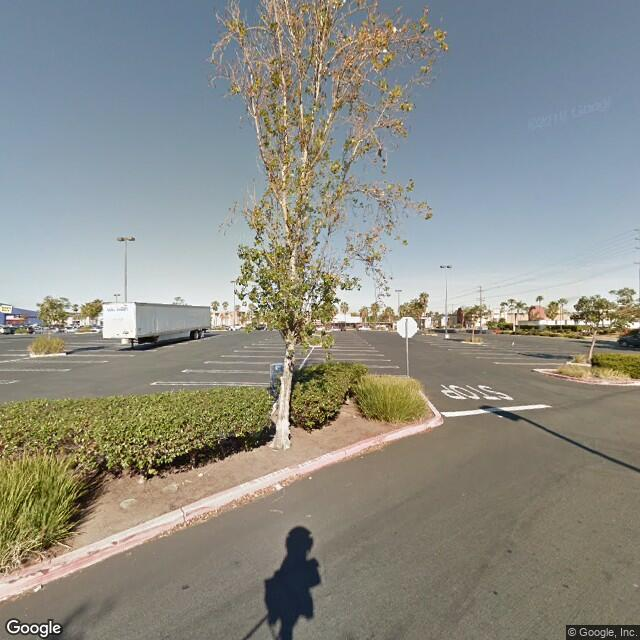litter: (270, 481, 285, 490), (31, 586, 46, 593), (307, 475, 313, 481)
